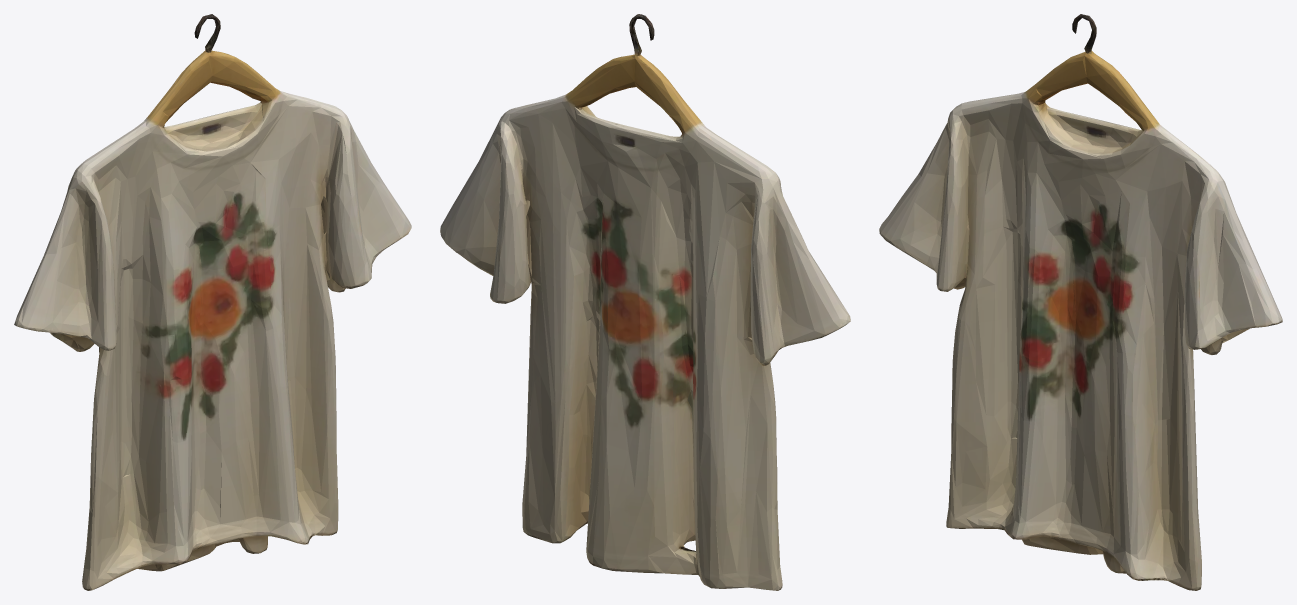
The model's file is suit_black_mannequin.glb.
3 renders of one model, left to right at view 1: azimuth 30°, elevation 25°; view 2: azimuth 150°, elevation 25°; view 3: azimuth 330°, elevation 25°, orthographic.
Visible parts, largest first — view 1: geometry_0; view 2: geometry_0; view 3: geometry_0.
Boxes of the visible parts, x1,y1,x2,y2 form: geometry_0: (14,14,411,590); geometry_0: (440,14,850,590); geometry_0: (879,14,1282,590).
Bounding box in the file's own units: 0.7667 × 0.9993 × 0.1414.
1 material, 1 textured.
